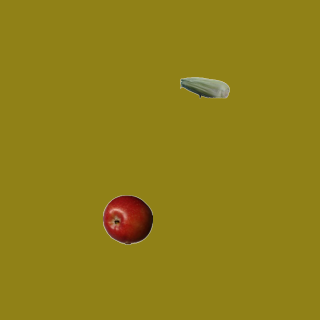Apple Braeburn: (102, 194, 152, 244)
Corn Husk: (179, 62, 229, 112)
